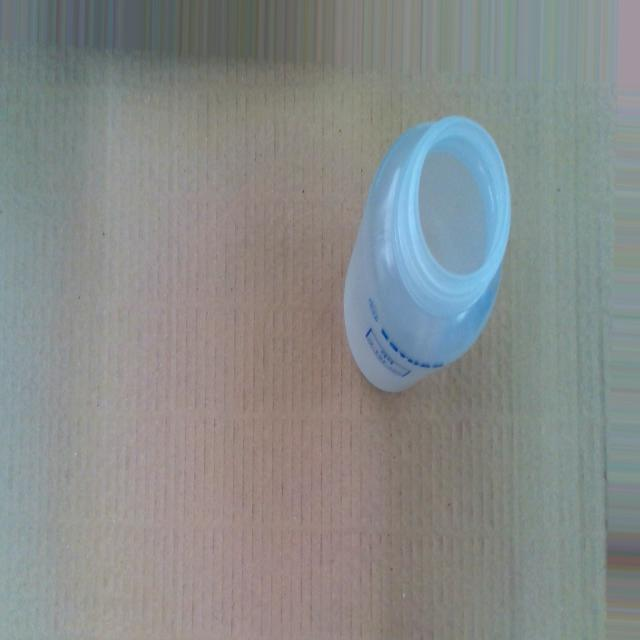bottle: (345, 111, 513, 392)
